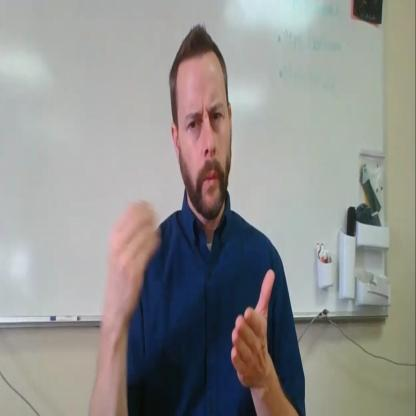Expensive: (88, 184, 278, 416)
